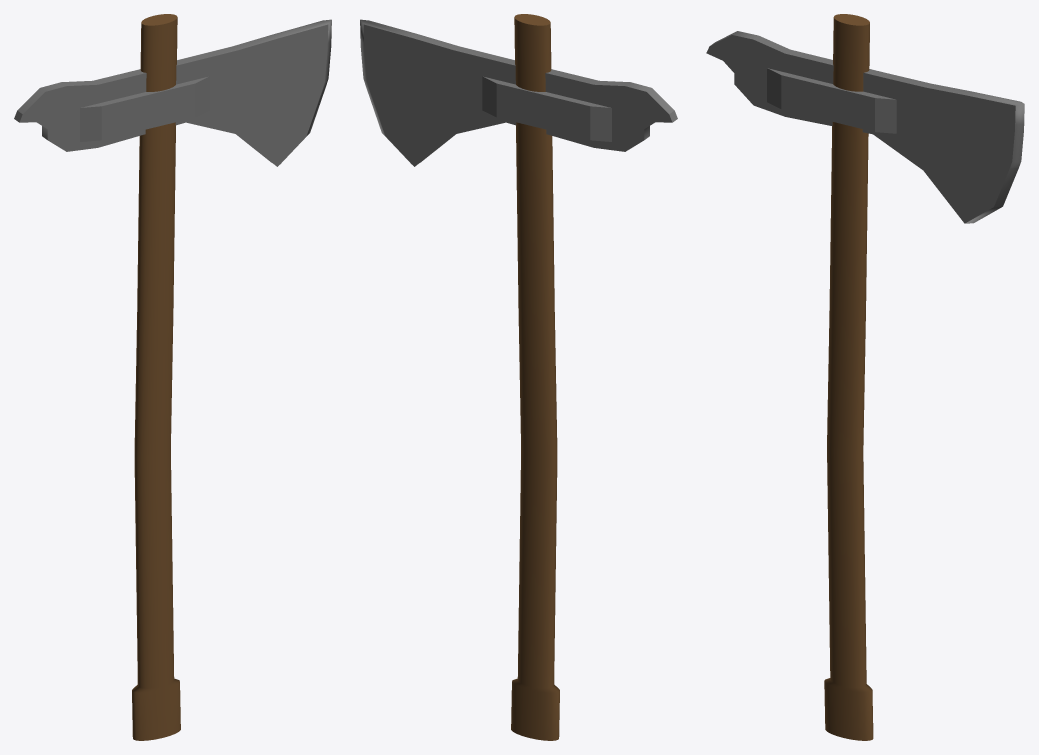
The model's file is AXE.fbx.
3 views of the same model, side by side, from view 1: azimuth 30°, elevation 25°; view 2: azimuth 150°, elevation 25°; view 3: azimuth 330°, elevation 25° (orthographic).
Visible parts, largest first — view 1: Axe; view 2: Axe; view 3: Axe.
Boxes of the visible parts, box(x1,y1,x2,y2) form: Axe: box(14, 14, 331, 740); Axe: box(360, 14, 677, 740); Axe: box(706, 14, 1024, 740).
Size of the model in its own units: 2.57 by 5.55 by 0.1811.
